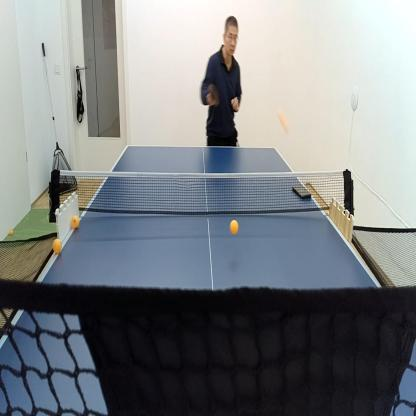Ball: (277, 108, 292, 139), (52, 237, 62, 254), (229, 218, 239, 235), (70, 214, 80, 230), (9, 228, 13, 236)
